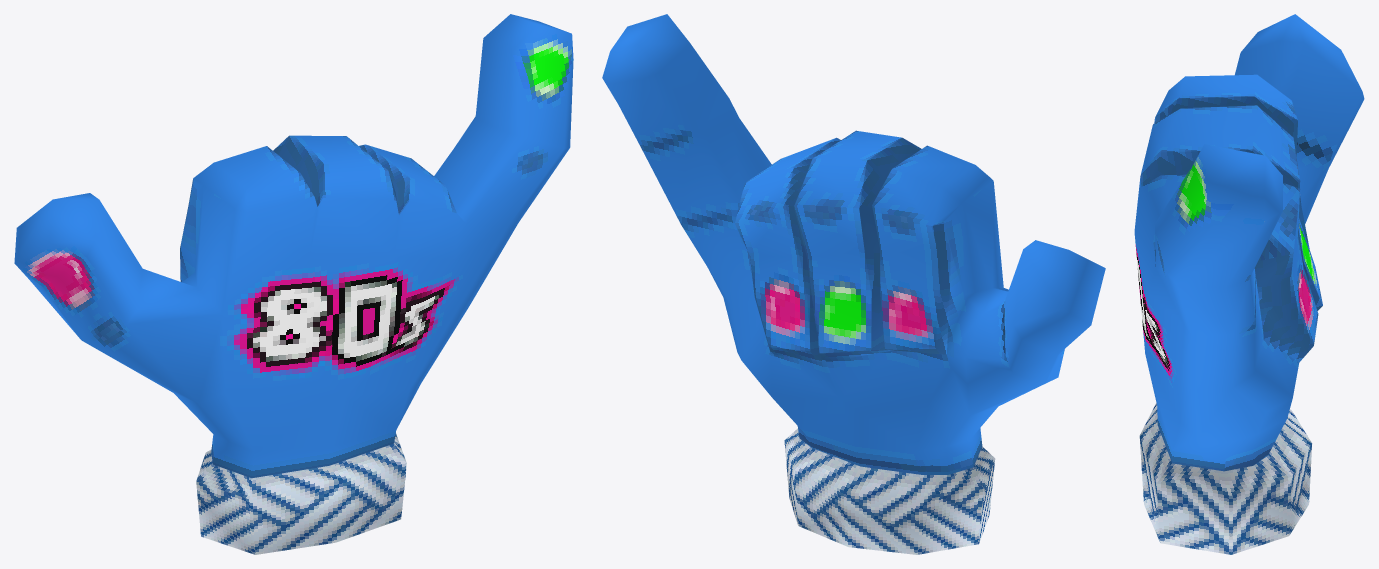
The model's file is ps2_save-icons_guitarherorocksthe80s.glb.
3 views of the same model, side by side, from view 1: azimuth 30°, elevation 25°; view 2: azimuth 150°, elevation 25°; view 3: azimuth 270°, elevation 25° (orthographic). The views are drawn at different scales.
Parts seen in each view (by area): view 1: gh.icn; view 2: gh.icn; view 3: gh.icn.
Part boxes in pixels (<box>): gh.icn: <box>14,14,573,554</box>; gh.icn: <box>602,14,1105,554</box>; gh.icn: <box>1134,14,1364,554</box>.
Size of the model in its own units: 4.81 by 3.94 by 1.7.
1 material, 1 textured.
